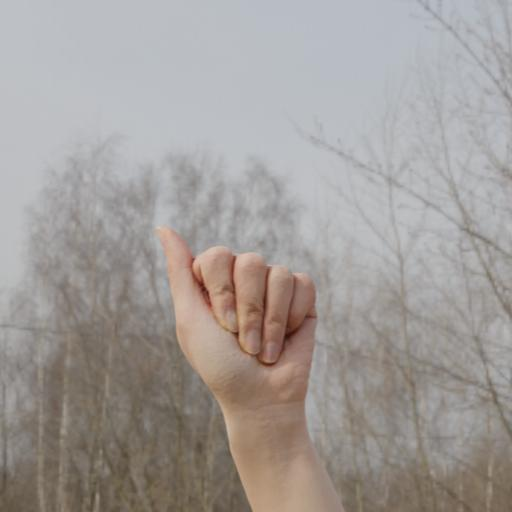A: (152, 218, 324, 422)
